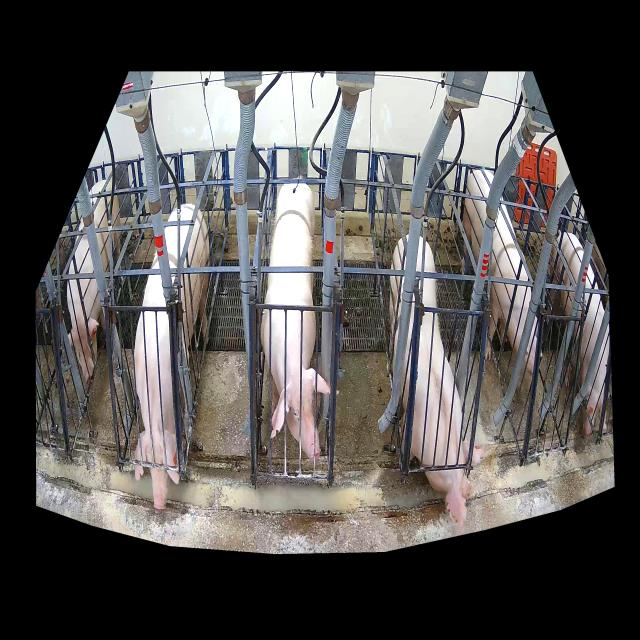pig: (389, 233, 492, 525), (134, 204, 209, 509), (261, 183, 330, 462), (461, 170, 538, 375), (550, 233, 610, 436), (66, 182, 121, 380)
